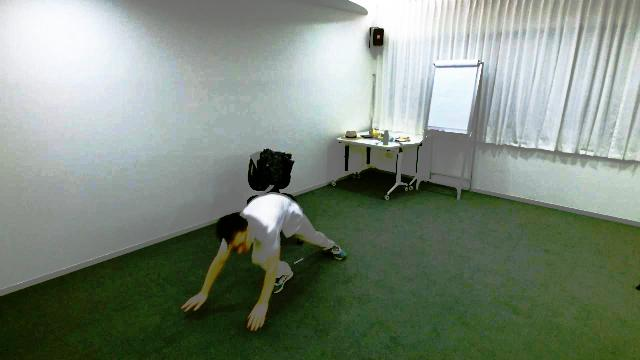jatuh: (184, 185, 346, 333)
